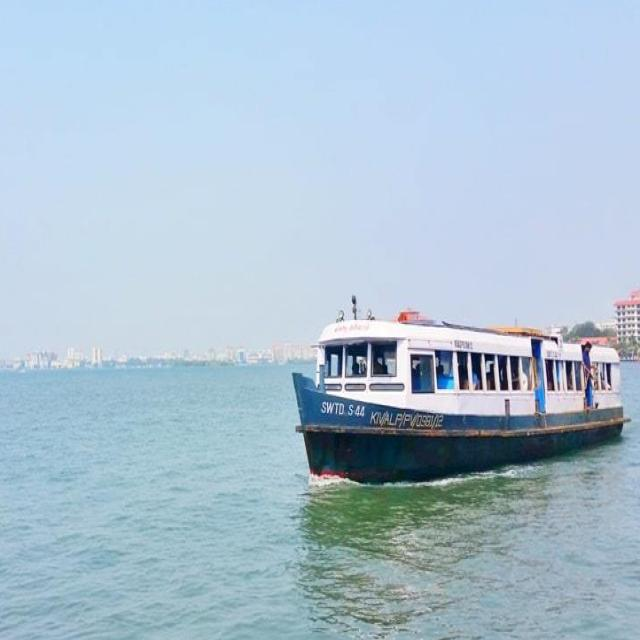passenger ship: (272, 275, 635, 457)
